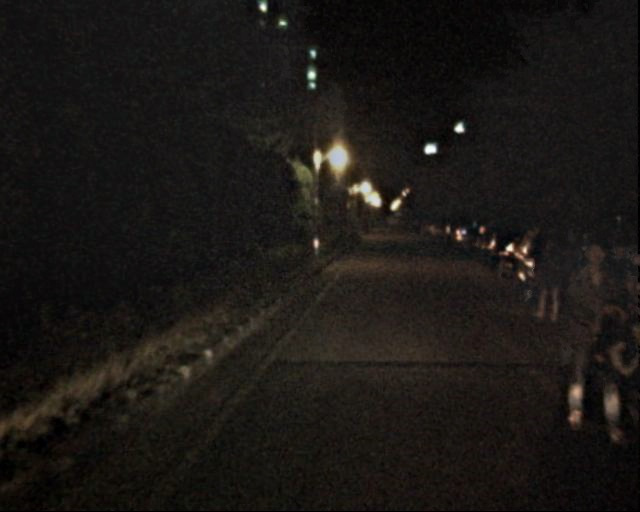person: (543, 246, 635, 438), (552, 228, 590, 321), (533, 239, 568, 325)
